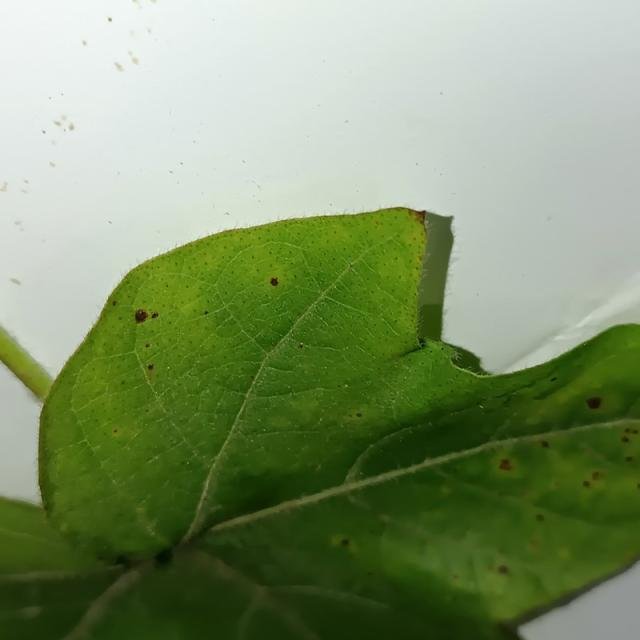Bacterial_Blight: (617, 429, 640, 464), (126, 300, 150, 327), (582, 470, 604, 488), (408, 207, 425, 224), (586, 397, 602, 410), (498, 459, 513, 471), (145, 364, 155, 381), (347, 411, 364, 419), (623, 427, 638, 435), (497, 565, 508, 574), (535, 513, 545, 522), (270, 277, 279, 286), (340, 538, 350, 546), (621, 436, 631, 443), (540, 441, 549, 448), (549, 376, 558, 382), (147, 364, 154, 371), (583, 481, 590, 488), (348, 261, 354, 269), (298, 343, 304, 349), (374, 220, 380, 226), (112, 300, 117, 306), (145, 343, 150, 348), (113, 429, 118, 434), (204, 311, 209, 315), (337, 384, 342, 388)
Cotton: (0, 208, 639, 639)
